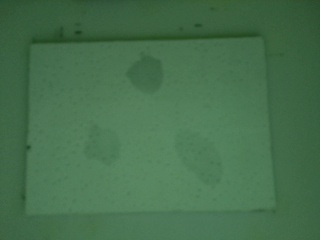Water_detected: (126, 63, 165, 90), (93, 126, 119, 161), (186, 144, 220, 169)
